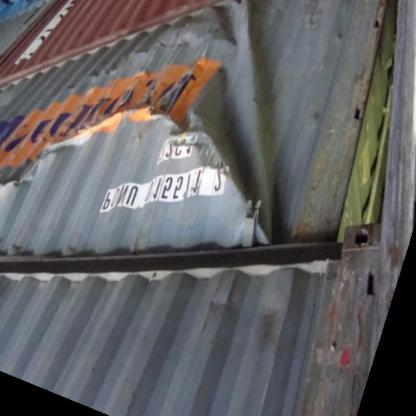Damage: (10, 93, 210, 178), (191, 11, 299, 160), (66, 39, 208, 93), (218, 134, 284, 244)
